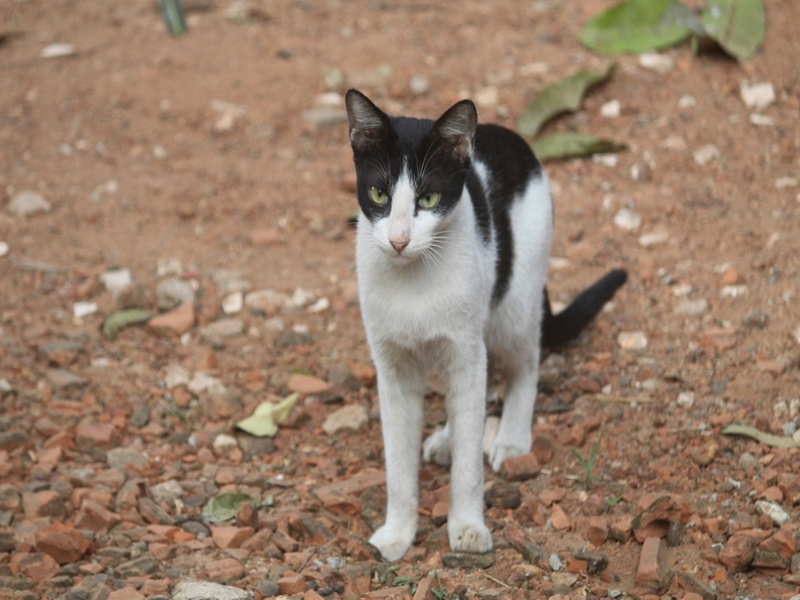cat: (339, 83, 632, 568)
